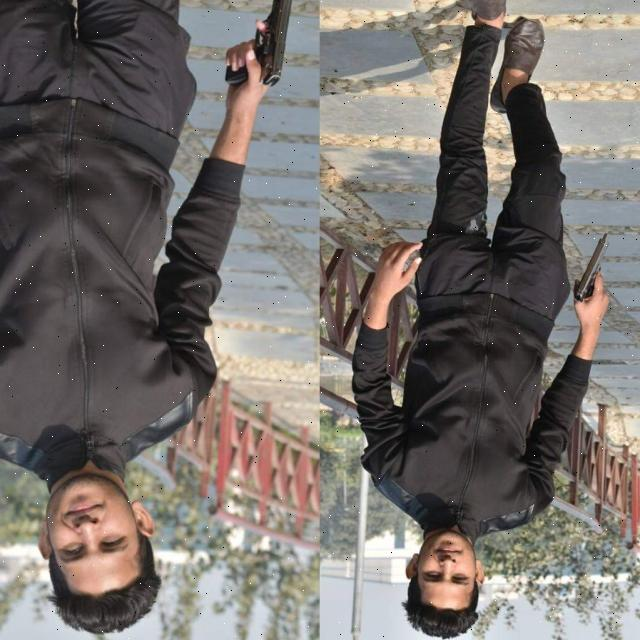gun: (216, 0, 302, 98), (567, 226, 612, 311)
